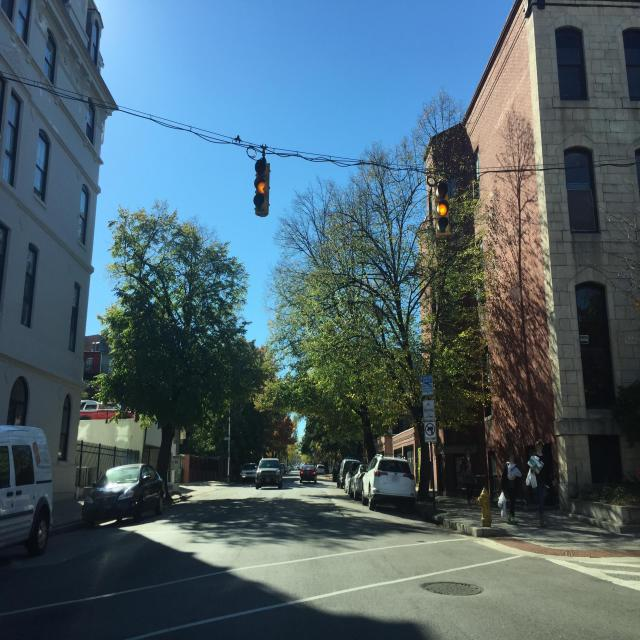Good: (419, 576, 487, 599)
